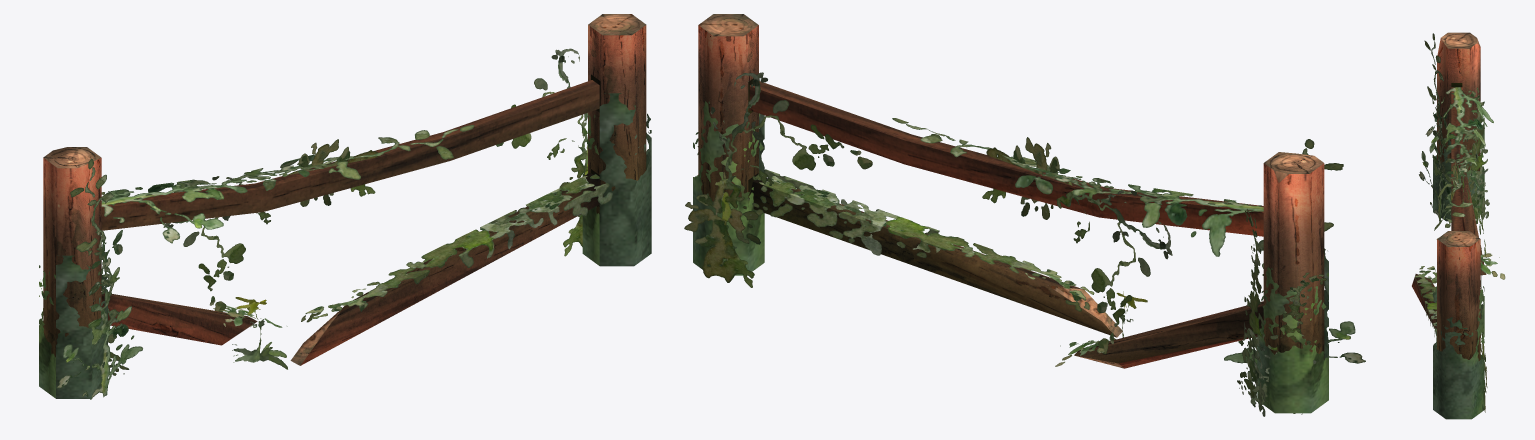
File: fence4.fbx
3 views of the same model, side by side, from view 1: azimuth 30°, elevation 25°; view 2: azimuth 150°, elevation 25°; view 3: azimuth 270°, elevation 25° (orthographic). The views are drawn at different scales.
Parts seen in each view (by area): view 1: fence4; view 2: fence4; view 3: fence4.
Part boxes in pixels (x1,y1,x2,y2): fence4: [39, 14, 651, 399]; fence4: [684, 14, 1365, 416]; fence4: [1412, 32, 1505, 419].
Size of the model in its own units: 345 by 140 by 70.31.
